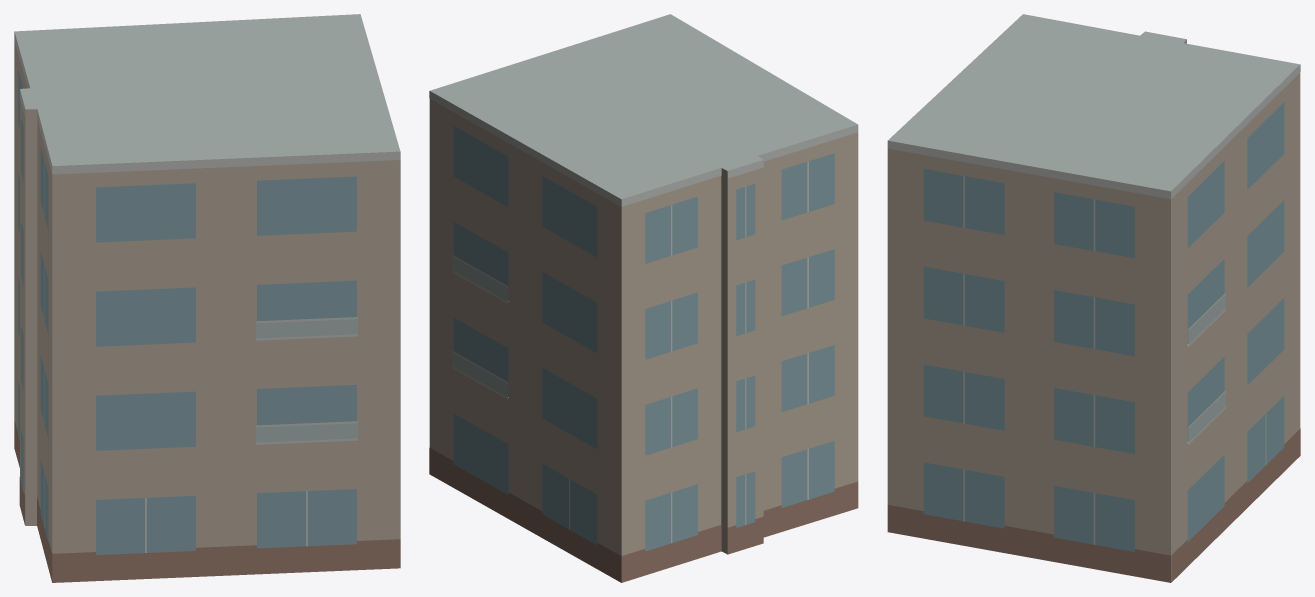
File: survey-upis-32523939.glb
The picture shows the model from 3 angles, left to right: view 1: azimuth 30°, elevation 25°; view 2: azimuth 150°, elevation 25°; view 3: azimuth 270°, elevation 25°; orthographic projection. The views are drawn at different scales.
Parts seen in each view (by area): view 1: survey-upis-32523939.tmp; view 2: survey-upis-32523939.tmp; view 3: survey-upis-32523939.tmp.
Part boxes in pixels (x1=…): survey-upis-32523939.tmp: x1=14, y1=14, x2=400, y2=582; survey-upis-32523939.tmp: x1=429, y1=14, x2=858, y2=582; survey-upis-32523939.tmp: x1=887, y1=14, x2=1300, y2=582.
Bounding box in the file's own units: 11.87 × 12.2 × 11.67.
